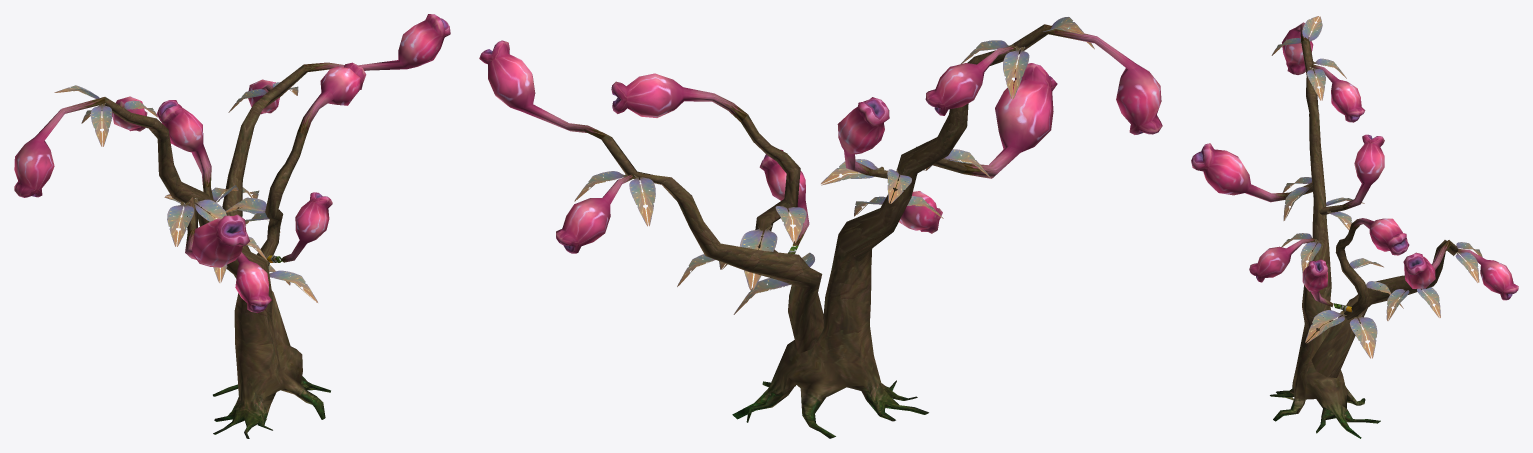
The model's file is Scene_guanmu_005.FBX.
The picture shows the model from 3 angles, left to right: view 1: azimuth 30°, elevation 25°; view 2: azimuth 150°, elevation 25°; view 3: azimuth 270°, elevation 25°; orthographic projection. The views are drawn at different scales.
Visible parts, largest first — view 1: Scene_guanmu_005; view 2: Scene_guanmu_005; view 3: Scene_guanmu_005.
Part boxes in pixels (x1=…): Scene_guanmu_005: x1=14, y1=14, x2=450, y2=438; Scene_guanmu_005: x1=479, y1=17, x2=1162, y2=438; Scene_guanmu_005: x1=1191, y1=16, x2=1518, y2=438.
Size of the model in its own units: 309 by 224 by 209.
